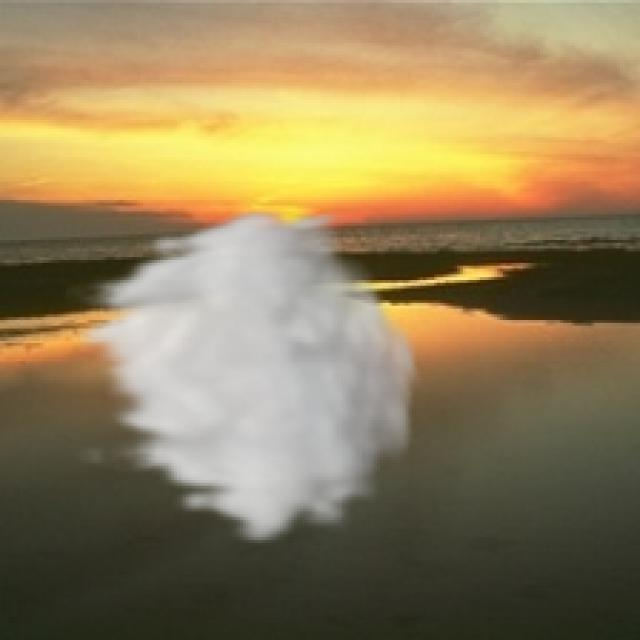Smoke: (63, 206, 426, 548)
